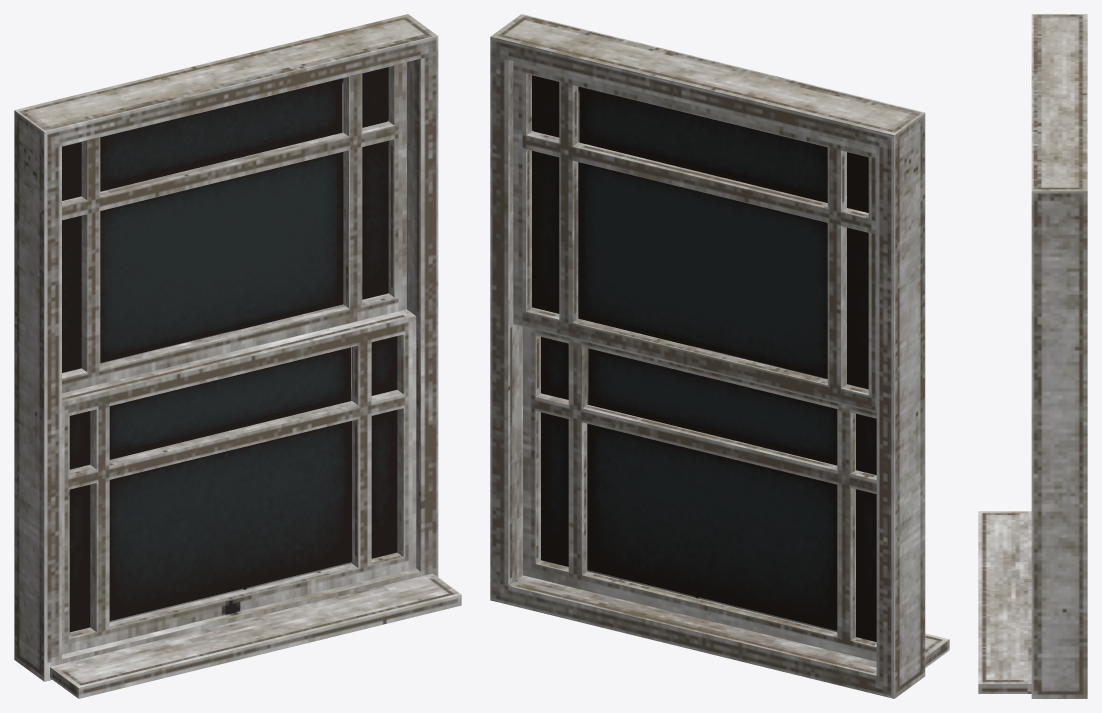
Rendered from Window.fbx.
3 views of the same model, side by side, from view 1: azimuth 30°, elevation 25°; view 2: azimuth 150°, elevation 25°; view 3: azimuth 270°, elevation 25° (orthographic). The views are drawn at different scales.
Parts seen in each view (by area): view 1: Window; view 2: Window; view 3: Window.
Part boxes in pixels (x1,y1,x2,y2): Window: (14, 14, 461, 698); Window: (490, 14, 949, 698); Window: (978, 14, 1087, 698).
Bounding box in the file's own units: 23.39 × 90 × 120.
